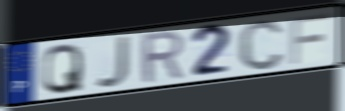2: (187, 22, 236, 82)
C: (237, 17, 285, 72)
F: (288, 11, 333, 66)
J: (93, 34, 132, 90)
Q: (40, 42, 84, 96)
R: (139, 29, 186, 87)
